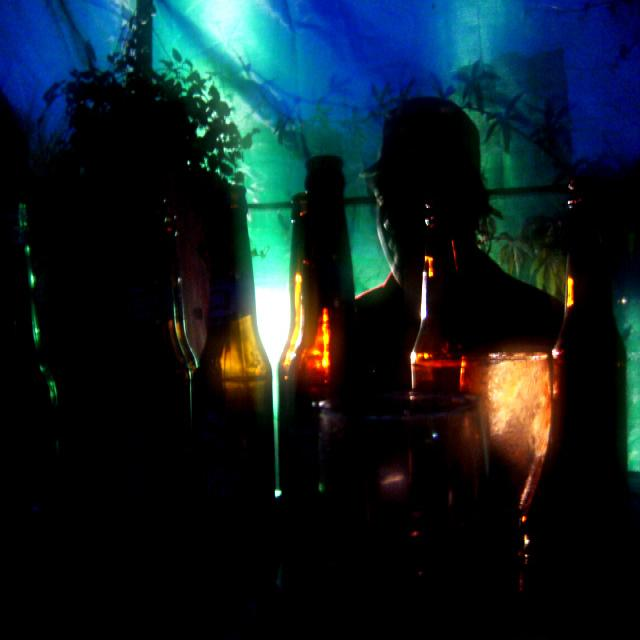Bottle: (546, 144, 640, 640), (194, 176, 272, 541), (290, 146, 359, 541), (0, 170, 61, 480), (408, 243, 459, 405)
Cup: (333, 375, 493, 618)
People: (366, 51, 492, 321)
